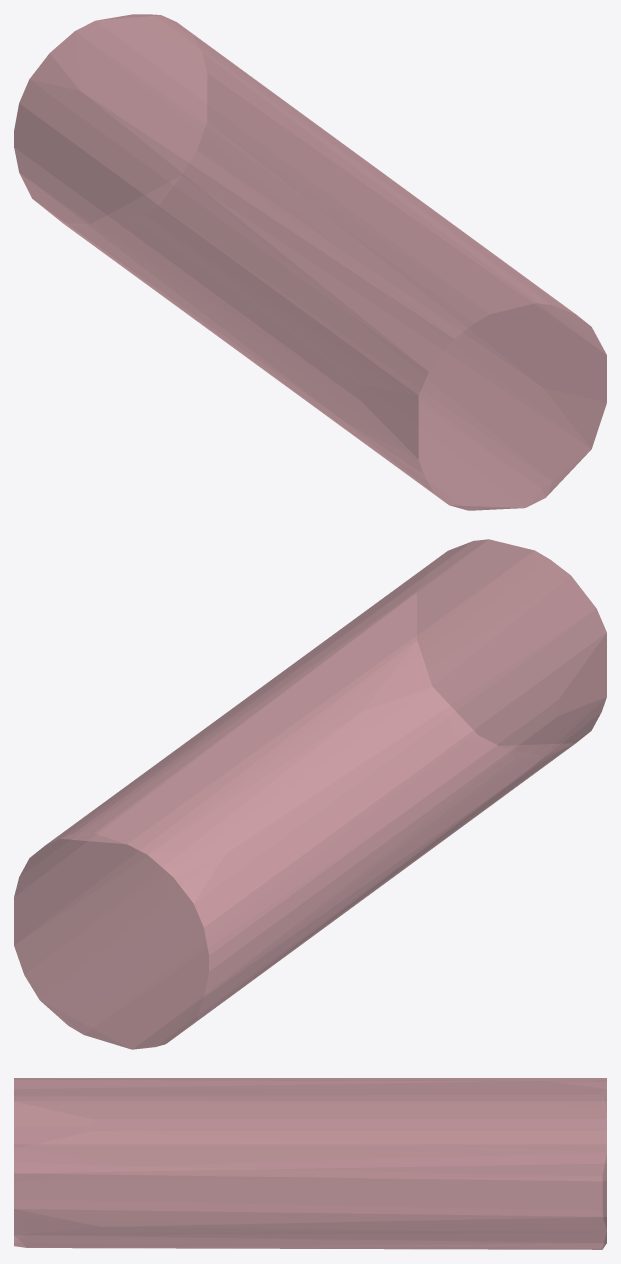
The picture shows the model from 3 angles, top to bottom: view 1: azimuth 30°, elevation 25°; view 2: azimuth 150°, elevation 25°; view 3: azimuth 270°, elevation 25°; orthographic projection. The views are drawn at different scales.
Parts seen in each view (by area): view 1: Shape_IndexedFaceSet.004_Shape_IndexedFaceSet.8737; view 2: Shape_IndexedFaceSet.004_Shape_IndexedFaceSet.8737; view 3: Shape_IndexedFaceSet.004_Shape_IndexedFaceSet.8737.
Part boxes in pixels (bbox=[...]): Shape_IndexedFaceSet.004_Shape_IndexedFaceSet.8737: bbox=[14, 14, 606, 510]; Shape_IndexedFaceSet.004_Shape_IndexedFaceSet.8737: bbox=[14, 539, 606, 1049]; Shape_IndexedFaceSet.004_Shape_IndexedFaceSet.8737: bbox=[14, 1078, 606, 1249].
Bounding box in the file's own units: 0.1085 × 0.1085 × 0.3882.
